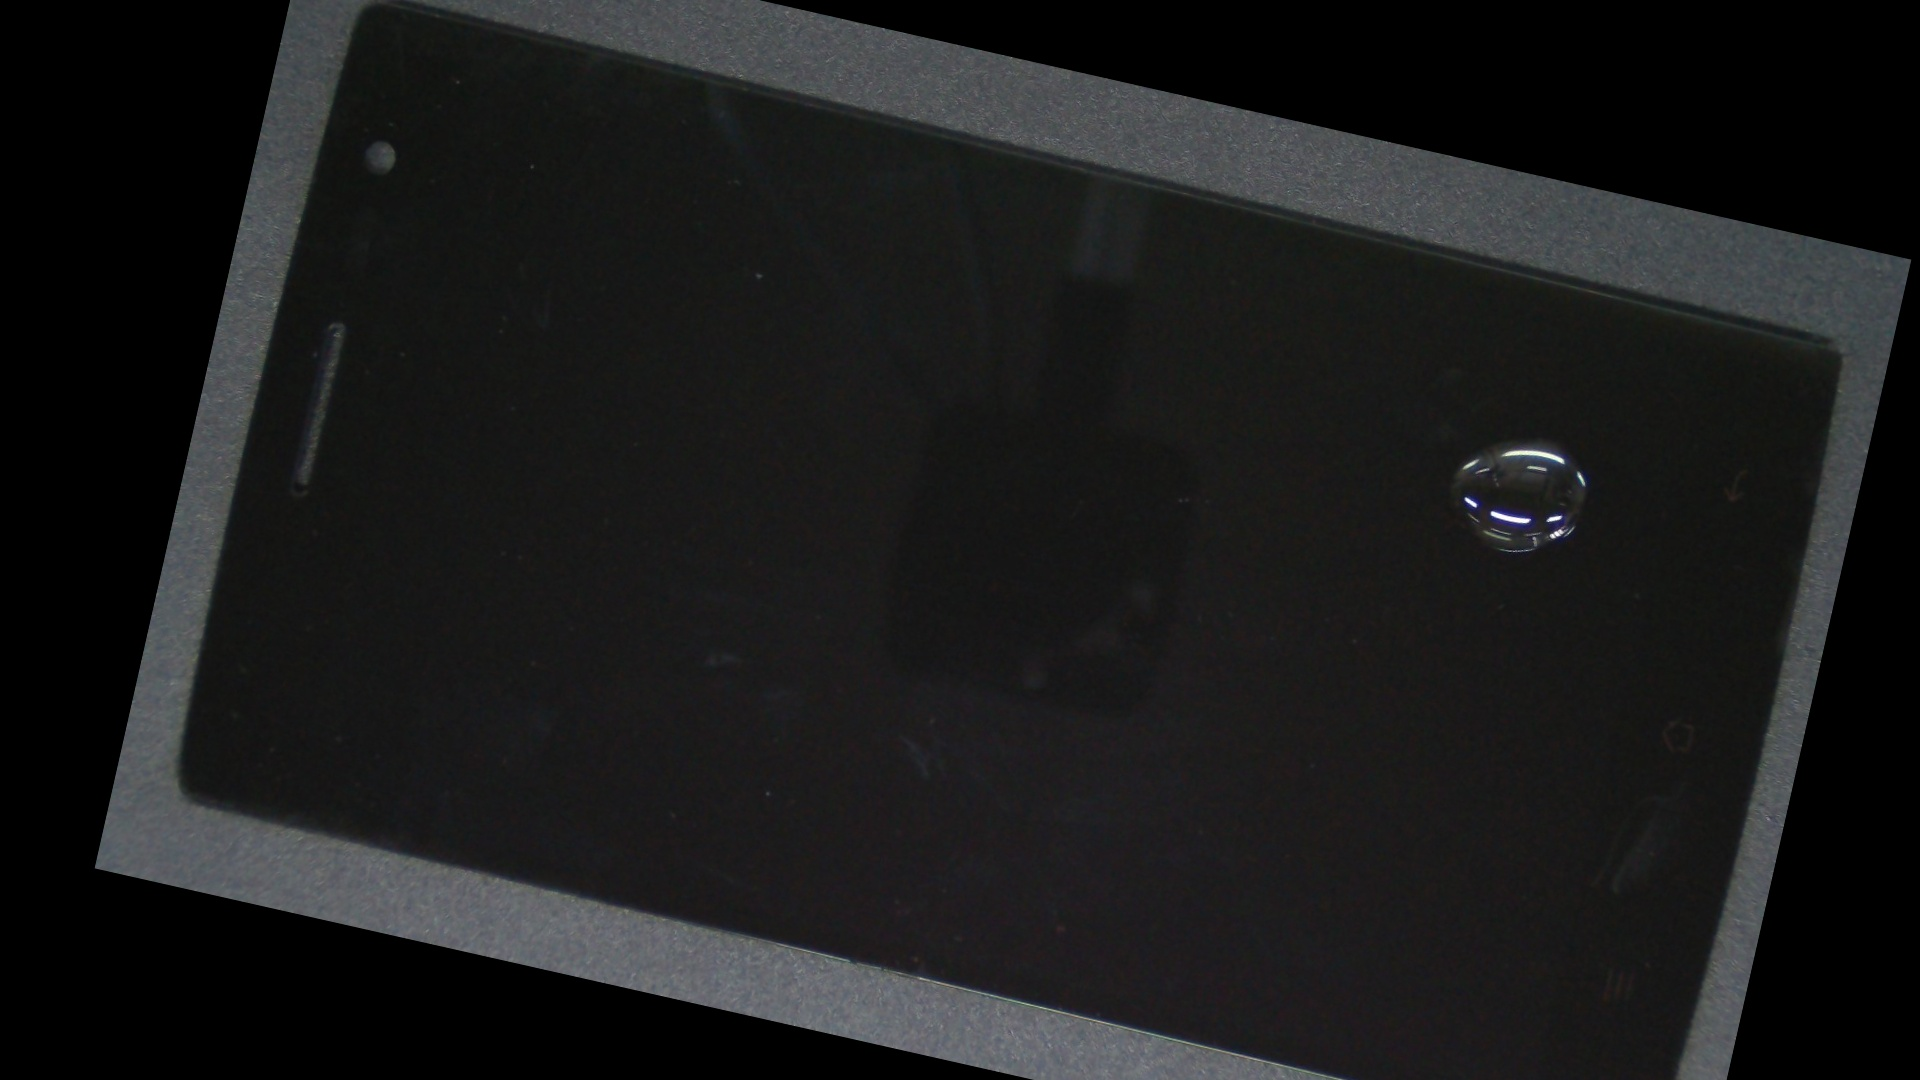oil: (876, 170, 1883, 634)
